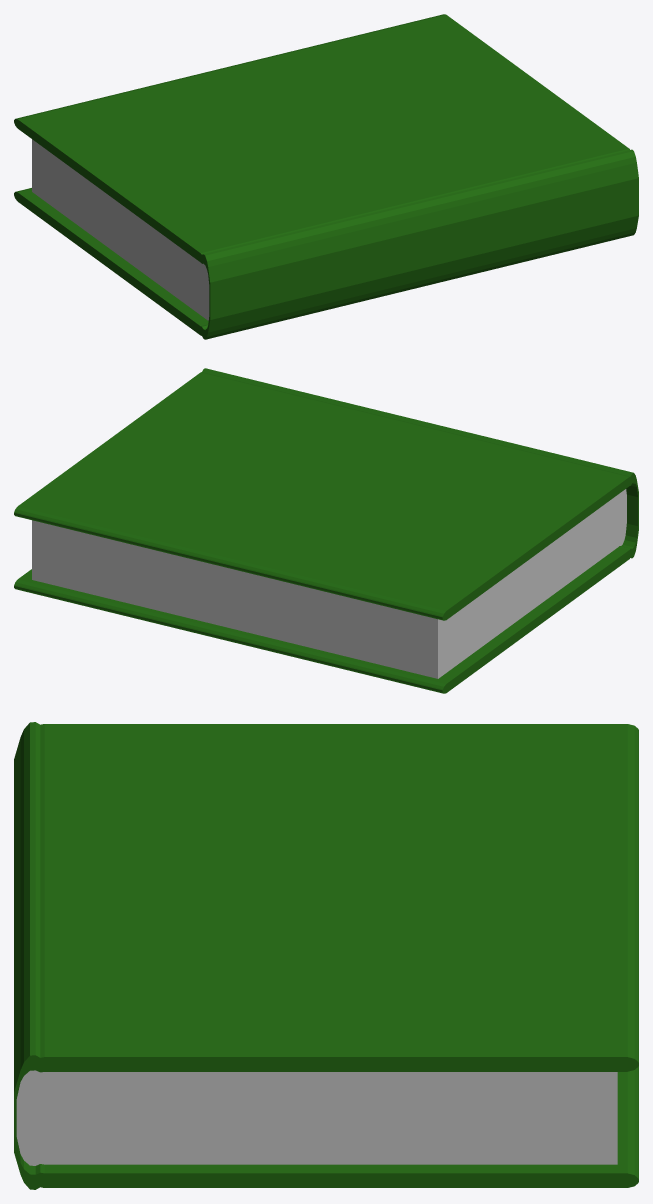
Rendered from book_green.fbx.
3 views of the same model, one above another, from view 1: azimuth 30°, elevation 25°; view 2: azimuth 150°, elevation 25°; view 3: azimuth 270°, elevation 25° (orthographic). The views are drawn at different scales.
Visible parts, largest first — view 1: book; view 2: book; view 3: book.
Part boxes in pixels (x1,y1,x2,y2): book: (14,14,638,339); book: (14,368,638,693); book: (14,722,638,1189).
Bounding box in the file's own units: 21.11 × 3.98 × 16.74.
